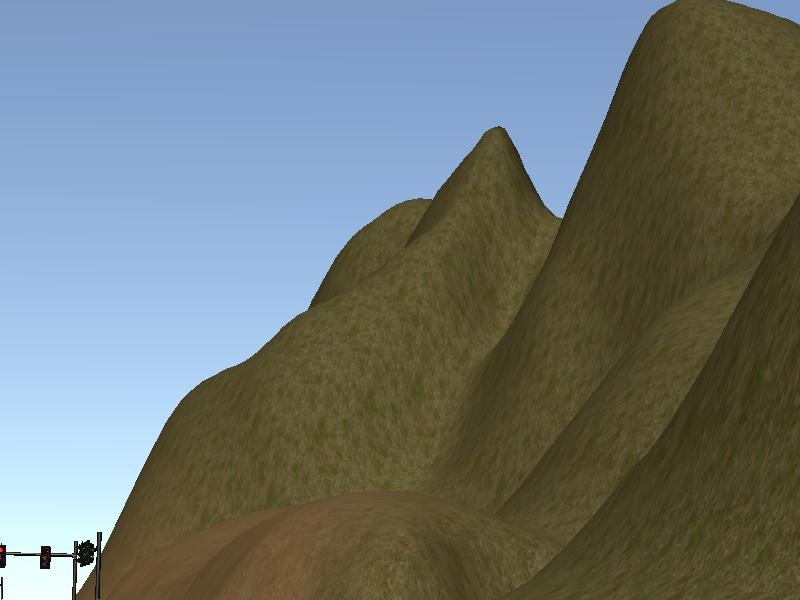traffic_light_red: (1, 543, 76, 571)
